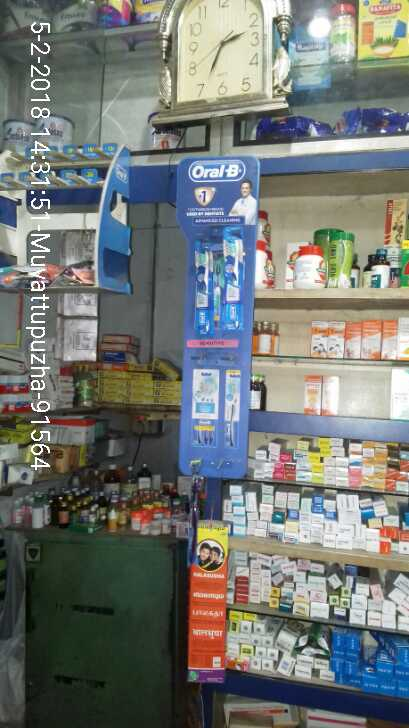oralb: (192, 238, 216, 341), (221, 229, 237, 324)
